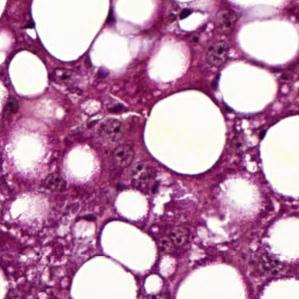steatosis: (141, 87, 228, 178), (2, 53, 52, 96)
